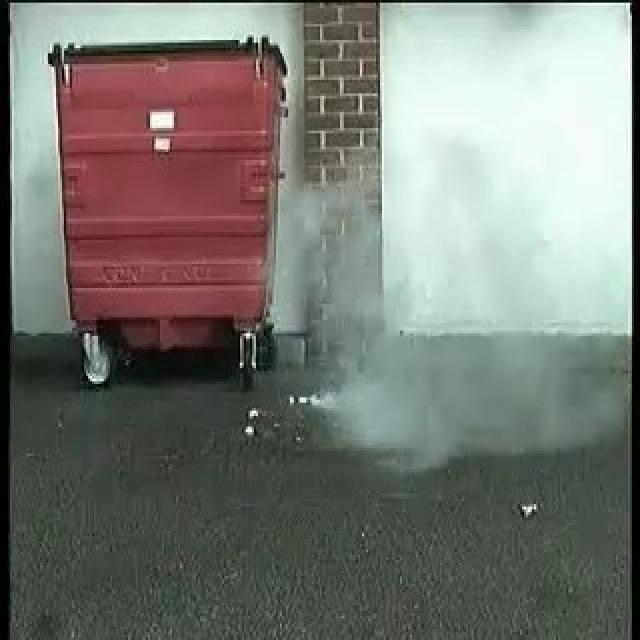smoke: (280, 188, 421, 442)
